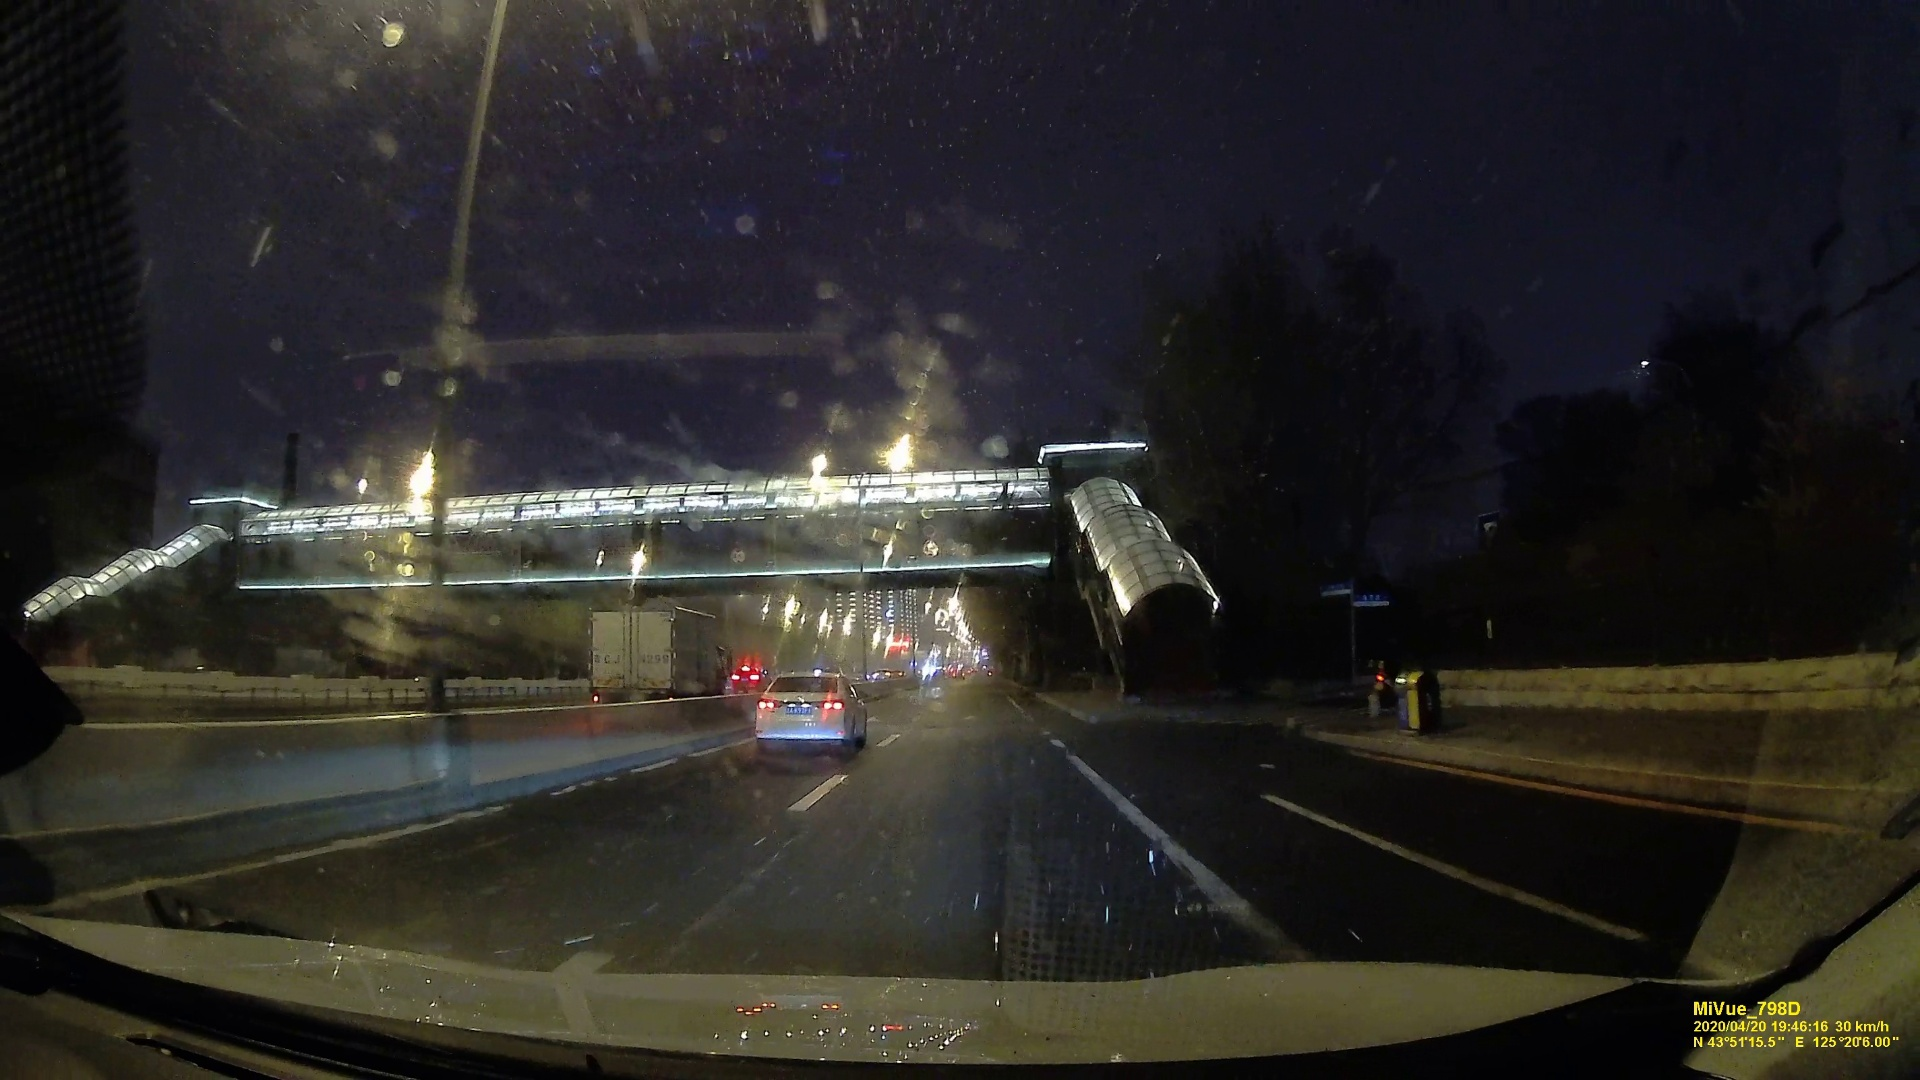truck: (589, 609, 731, 698)
vehicle: (754, 673, 870, 760), (731, 665, 770, 691)
